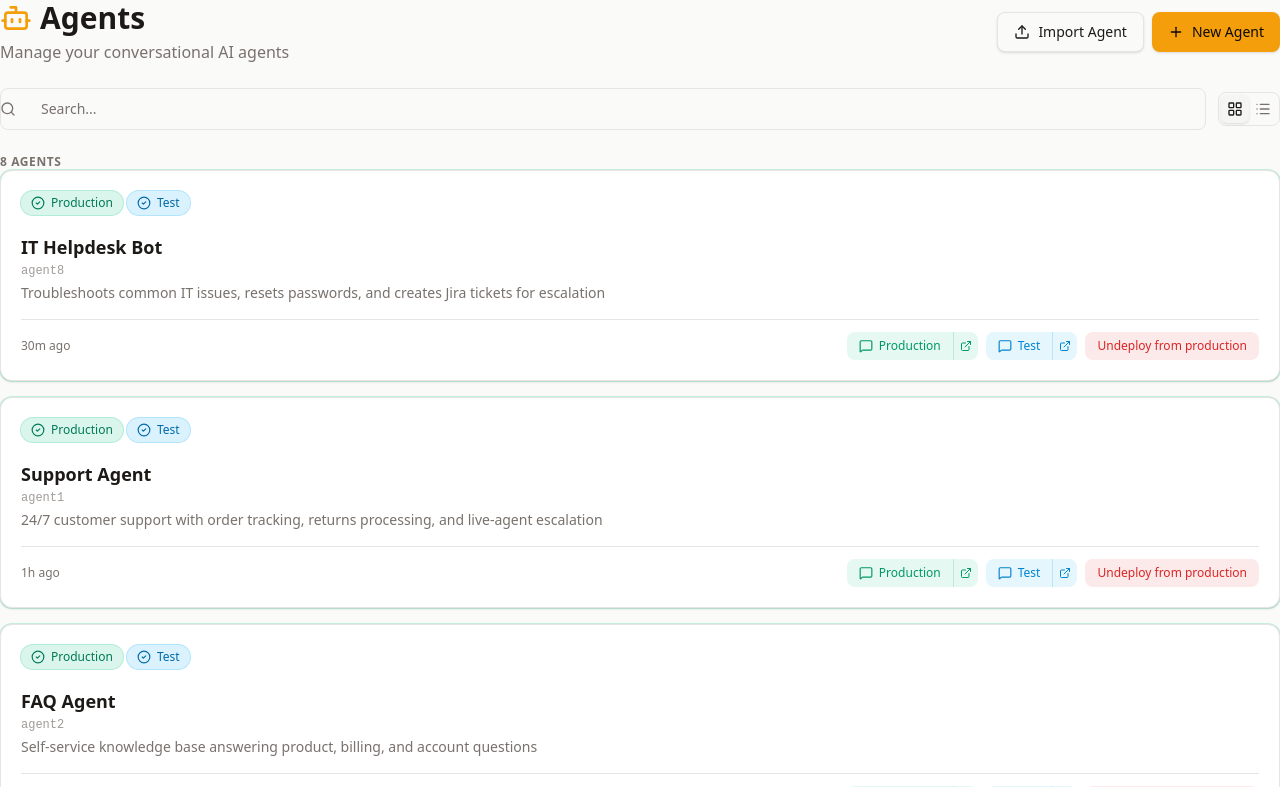
Test: AgentsPage — Import/Export › renders create-agent-btn that opens the choice dialog
The image size is (1280, 787).
Step 1. Click the button with test id "create-agent-btn" → (1216,32), box 1152,12 -> 1279,52
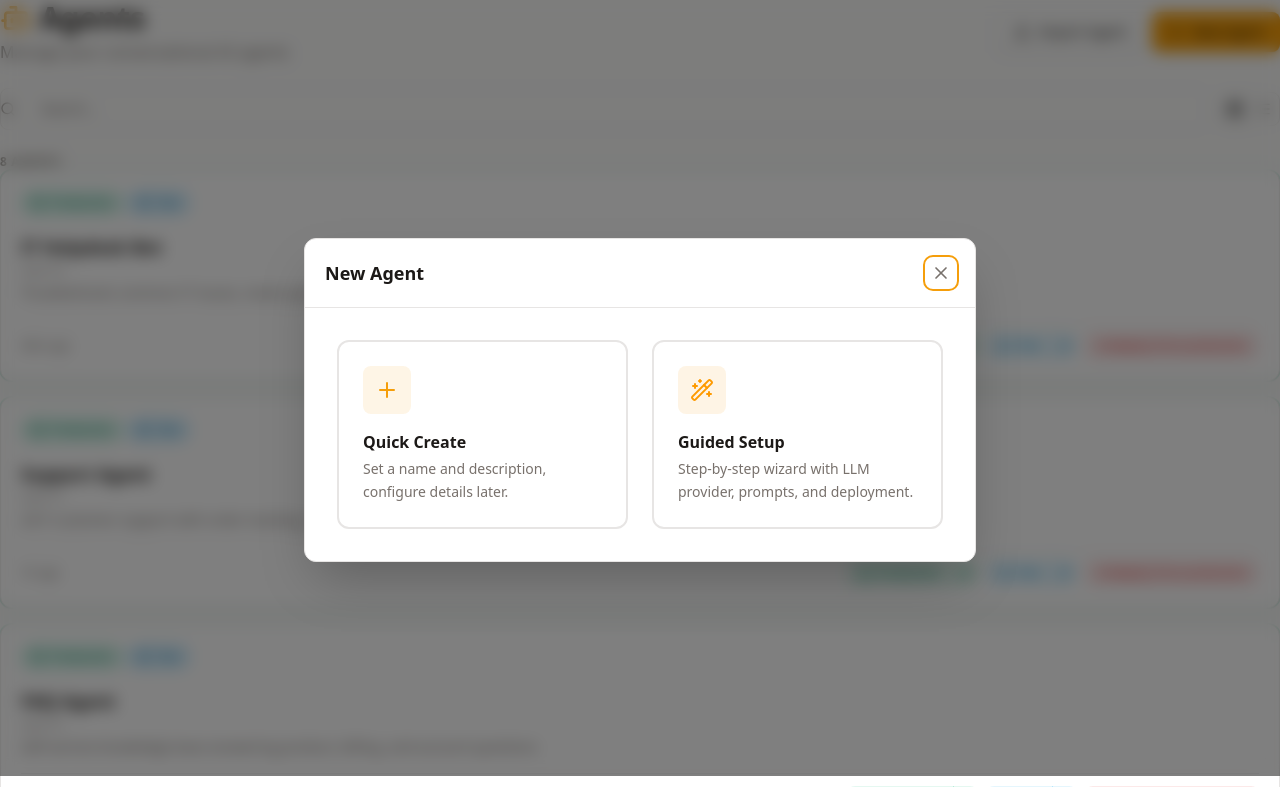
Now the dialog with test id "create-or-wizard-dialog" is shown, box 304,238 -> 976,562
